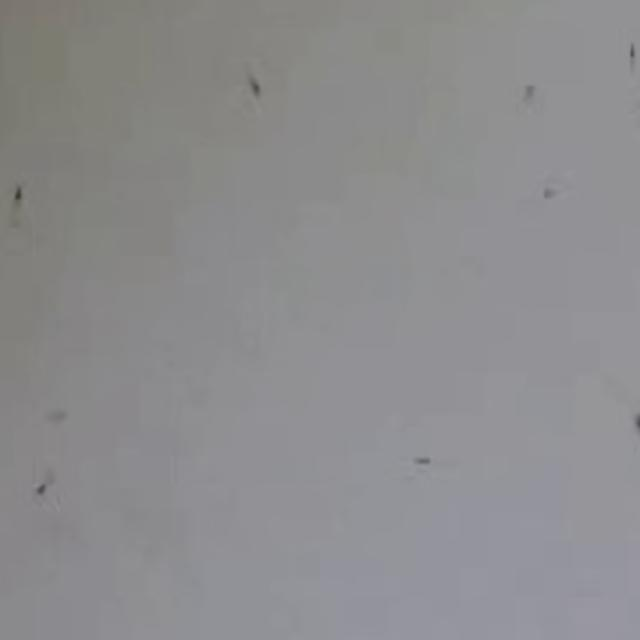shrimp-seed: (0, 174, 36, 230), (236, 60, 277, 106), (392, 449, 454, 475), (24, 458, 55, 502), (520, 73, 547, 119), (615, 31, 640, 79), (616, 396, 640, 441)
